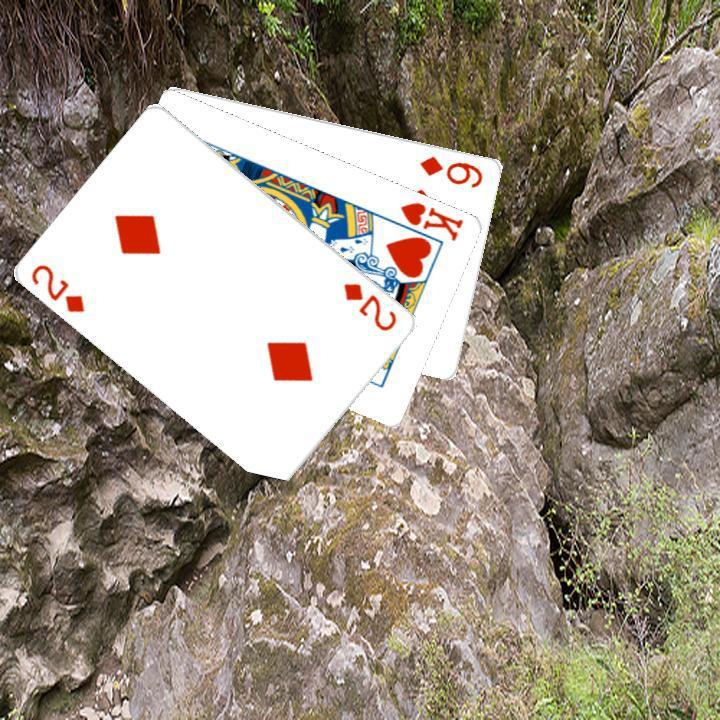2: (339, 278, 400, 334), (27, 259, 88, 315)
6: (416, 151, 486, 190)
K: (396, 197, 466, 243)
